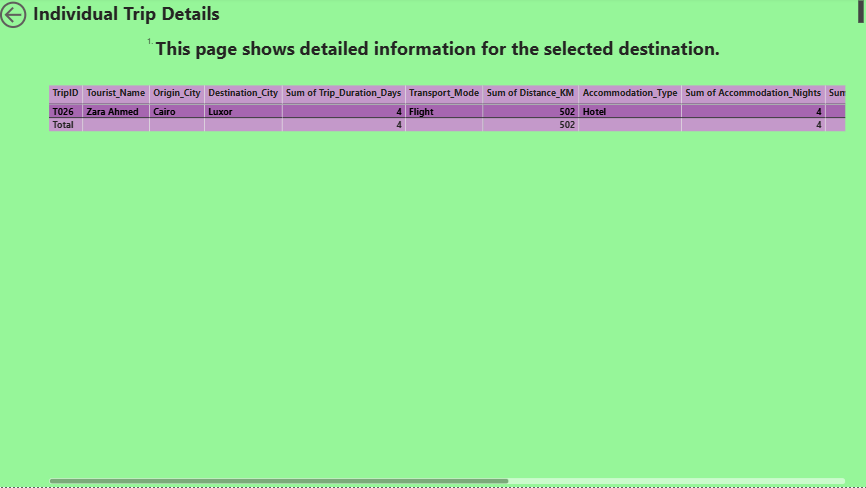

What the dashboard file says about the page in this screenshot:
{"tool":"powerbi","page":{"name":"Trip Details","canvas":[1280,720],"ordinal":3},"visuals":[{"type":"textbox","box":[50.4,0,1229.6,52.1],"z":0},{"type":"tableEx","fields":{"Values":["tourist_carbon_data.TripID","tourist_carbon_data.Tourist_Name","tourist_carbon_data.Origin_City","tourist_carbon_data.Destination_City","Sum(tourist_carbon_data.Trip_Duration_Days)","tourist_carbon_data.Transport_Mode","Sum(tourist_carbon_data.Distance_KM)","tourist_carbon_data.Accommodation_Type","Sum(tourist_carbon_data.Accommodation_Nights)","Sum(tourist_carbon_data.Total_Trip_CO2_KG)","Sum(tourist_carbon_data.Transport_CO2_KG)","Sum(tourist_carbon_data.Accommodation_CO2_KG)"]},"box":[72.2,124.3,1180.9,596.3],"z":1000},{"type":"actionButton","box":[0,0,50.4,52.1],"z":2000},{"type":"textbox","box":[0,52.1,1280,50.4],"z":3000}]}

Visuals, with their boxes on the page's 1280x720 design canvas (x1, y1, x2, y2). These are canvas units, not pixel positions in the 866x488 screenshot, which may show the page scaled, cropped or inside an application window:
textbox: 50 0 1280 52
tableEx - tourist_carbon_data.TripID x tourist_carbon_data.Tourist_Name: 72 124 1253 721
actionButton: 0 0 50 52
textbox: 0 52 1280 102
